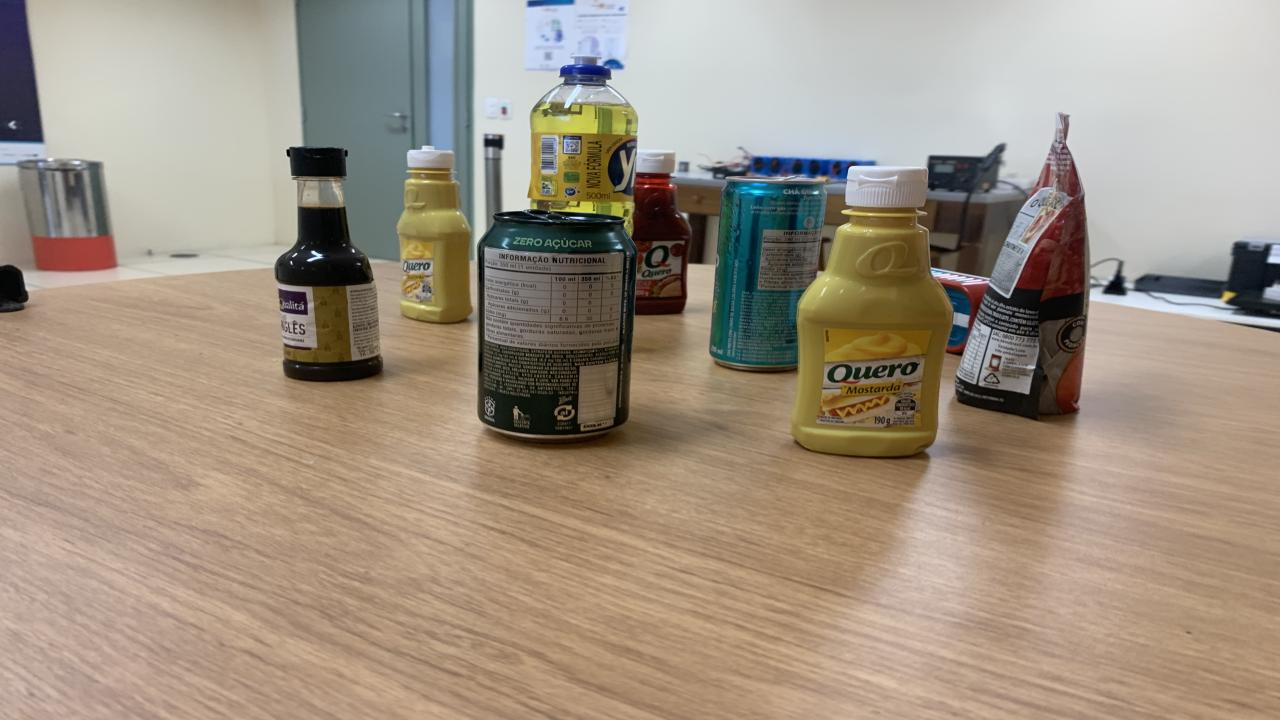Detergent-Cleanup_Items: (528, 56, 638, 232)
English_Sauce-Pantry_Items: (275, 146, 382, 381)
Guarana_Can-Drinks: (478, 210, 635, 442)
Ketchup-Pantry_Items: (632, 150, 690, 315)
Mustard-Pantry_Items: (790, 167, 952, 456), (398, 144, 472, 322)
Tea-Drinks: (710, 176, 828, 371)
Tomato_Sauce-Pantry_Items: (955, 114, 1088, 418)
Tuna_Can-Pantry_Items: (930, 268, 990, 354)
